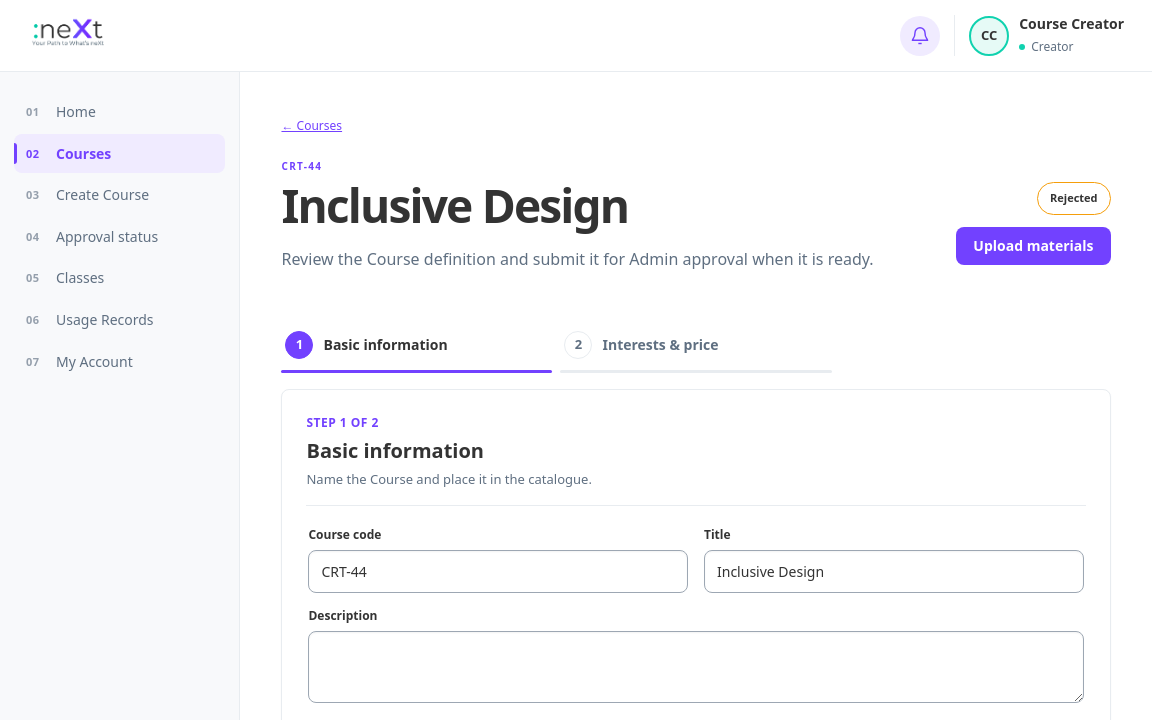
Test: Creator Course workspace › lists current files and offers upload on a Rejected course
Expected: the list items read "1Basic information", "2Interests & price", in this order, [282,321,552,373]; [560,321,832,373]
What coordinates should you click on to do the following:
click the button "Upload materials"
I would click on:
 (1033, 246)
Its box is [956,227,1110,265].
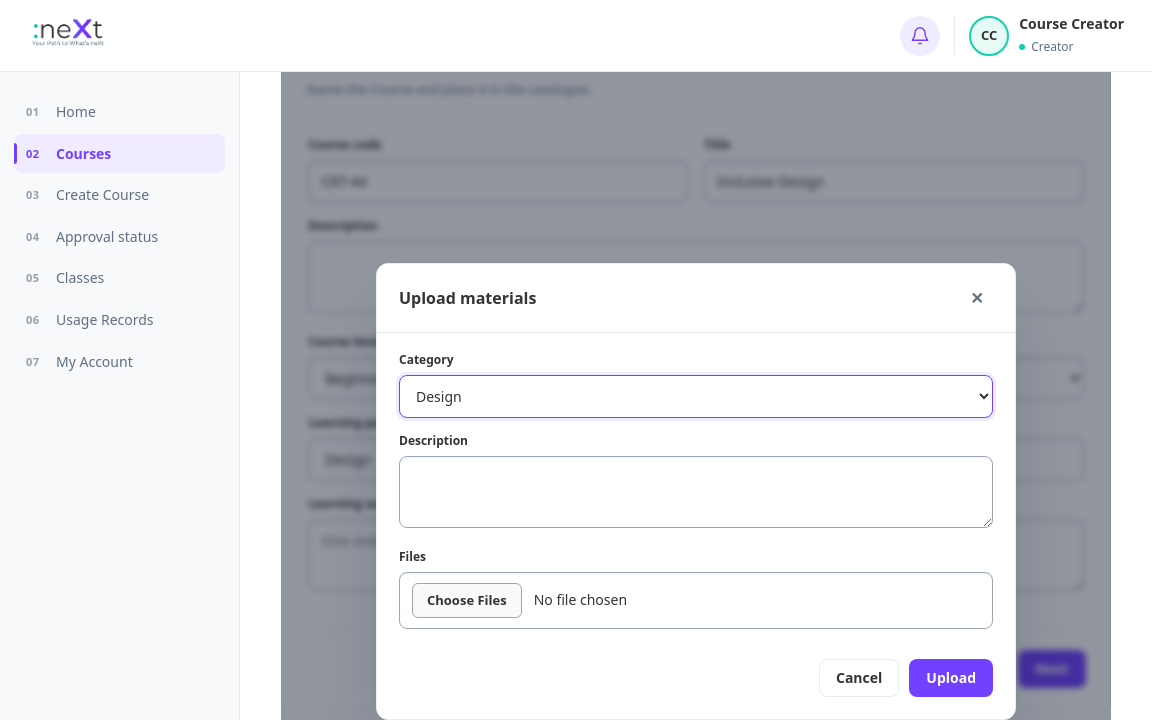
Now the dropdown labelled "Category" shows "Design", box [399,375,993,418]
